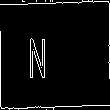N_N: (45, 29, 65, 81)
